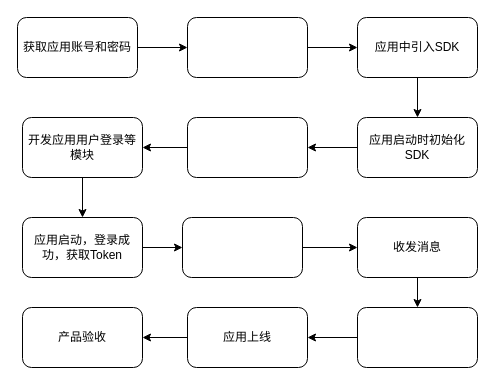
This 495x385 diagram has some shape labels left out. The shapes that lost their labels are listed below. From the top down, each one's centre as x and y in pixels, then its label:
At point 247,47: "下载SDK".
At point 247,147: "集成聊天界面，群组功能".
At point 242,247: "连接IM服务器".
At point 417,337: "应用测试验证".
